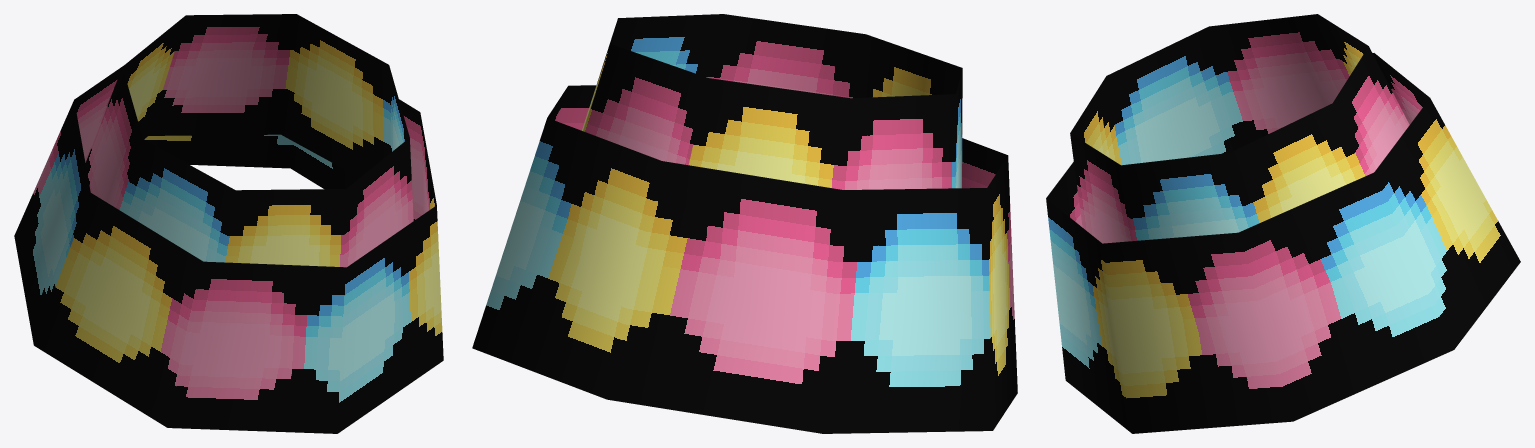
3 views of the same model, side by side, from view 1: azimuth 30°, elevation 25°; view 2: azimuth 150°, elevation 25°; view 3: azimuth 270°, elevation 25° (orthographic). The views are drawn at different scales.
Parts seen in each view (by area): view 1: code_head78; view 2: code_head78; view 3: code_head78.
Part boxes in pixels (left/top/right/bottom): code_head78: left=14, top=14, right=443, bottom=433; code_head78: left=472, top=14, right=1017, bottom=433; code_head78: left=1046, top=14, right=1520, bottom=433.
Bounding box in the file's own units: 0.2358 × 0.1816 × 0.2363.
1 material, 1 textured.
